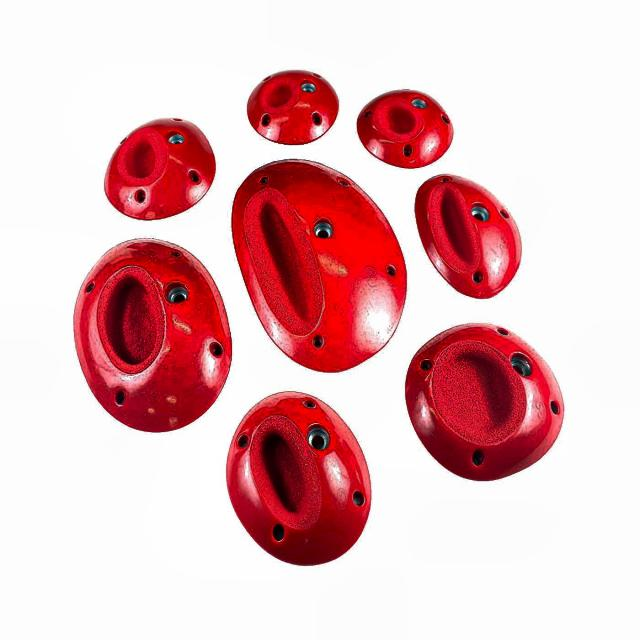Hold: (228, 161, 404, 375), (70, 240, 234, 433), (405, 320, 568, 482), (230, 389, 374, 567), (413, 175, 524, 300), (102, 114, 216, 220), (356, 87, 458, 173), (247, 65, 336, 146)
